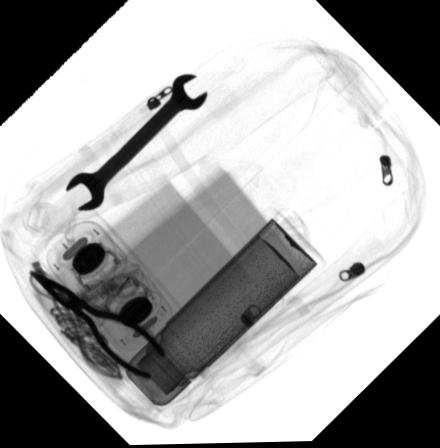Pliers: (27, 267, 168, 380)
Wrench: (67, 72, 207, 209)
